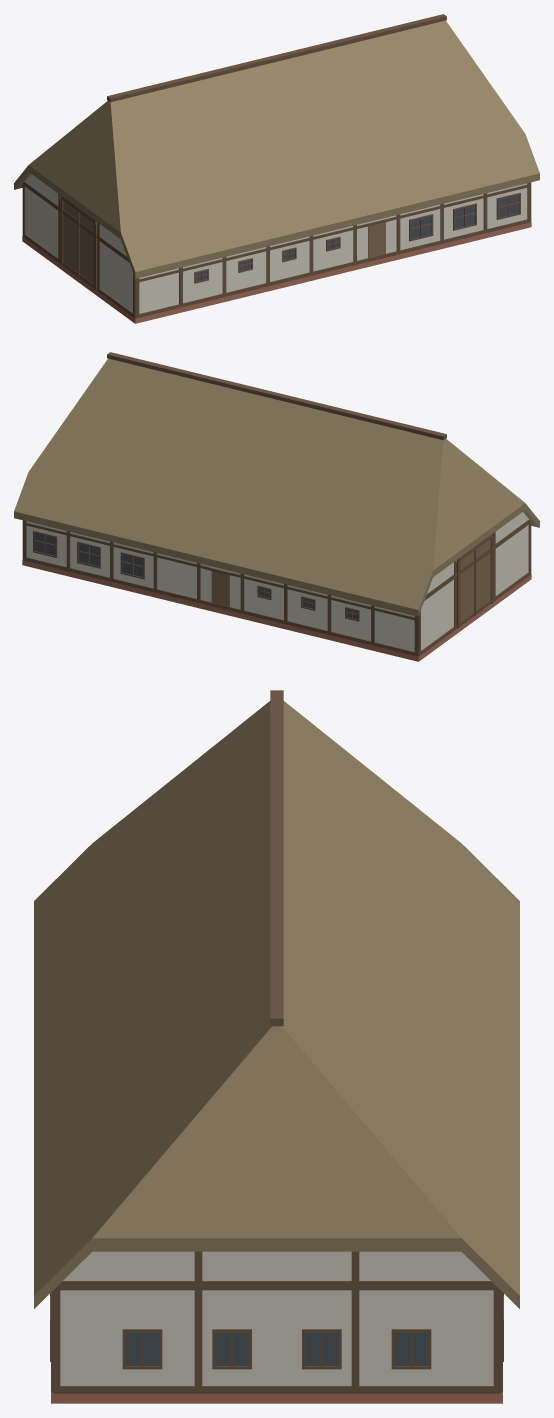
The model's file is niedersachsenhaus.glb.
3 views of the same model, one above another, from view 1: azimuth 30°, elevation 25°; view 2: azimuth 150°, elevation 25°; view 3: azimuth 270°, elevation 25° (orthographic). The views are drawn at different scales.
Visible parts, largest first — view 1: Roof, Walls, Timber, Plinth, Doors, Windows; view 2: Roof, Walls, Timber, Plinth, Doors, Windows; view 3: Roof, Walls, Timber, Plinth, Windows.
Part boxes in pixels (x1,y1,x2,y2): Roof: (14, 20, 539, 278); Walls: (25, 174, 527, 313); Timber: (22, 14, 531, 318); Plinth: (22, 222, 531, 323); Doors: (63, 201, 385, 284); Windows: (196, 195, 519, 281); Roof: (14, 358, 539, 616); Walls: (26, 512, 528, 651); Timber: (22, 352, 531, 656); Plinth: (22, 560, 531, 661); Doors: (211, 539, 490, 622); Windows: (34, 533, 357, 619); Roof: (34, 701, 519, 1308); Walls: (60, 1251, 493, 1385); Timber: (50, 690, 503, 1393); Plinth: (51, 1392, 502, 1403); Windows: (125, 1333, 428, 1365).
Size of the model in its own units: 25 by 10.5 by 13.
